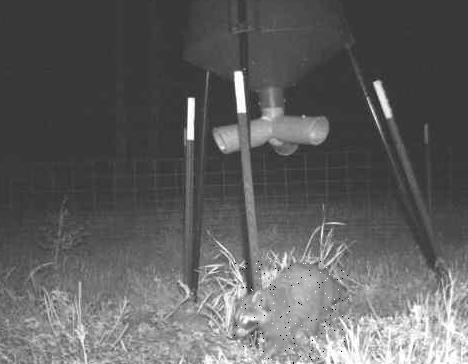Raccoon: (231, 261, 351, 364)
